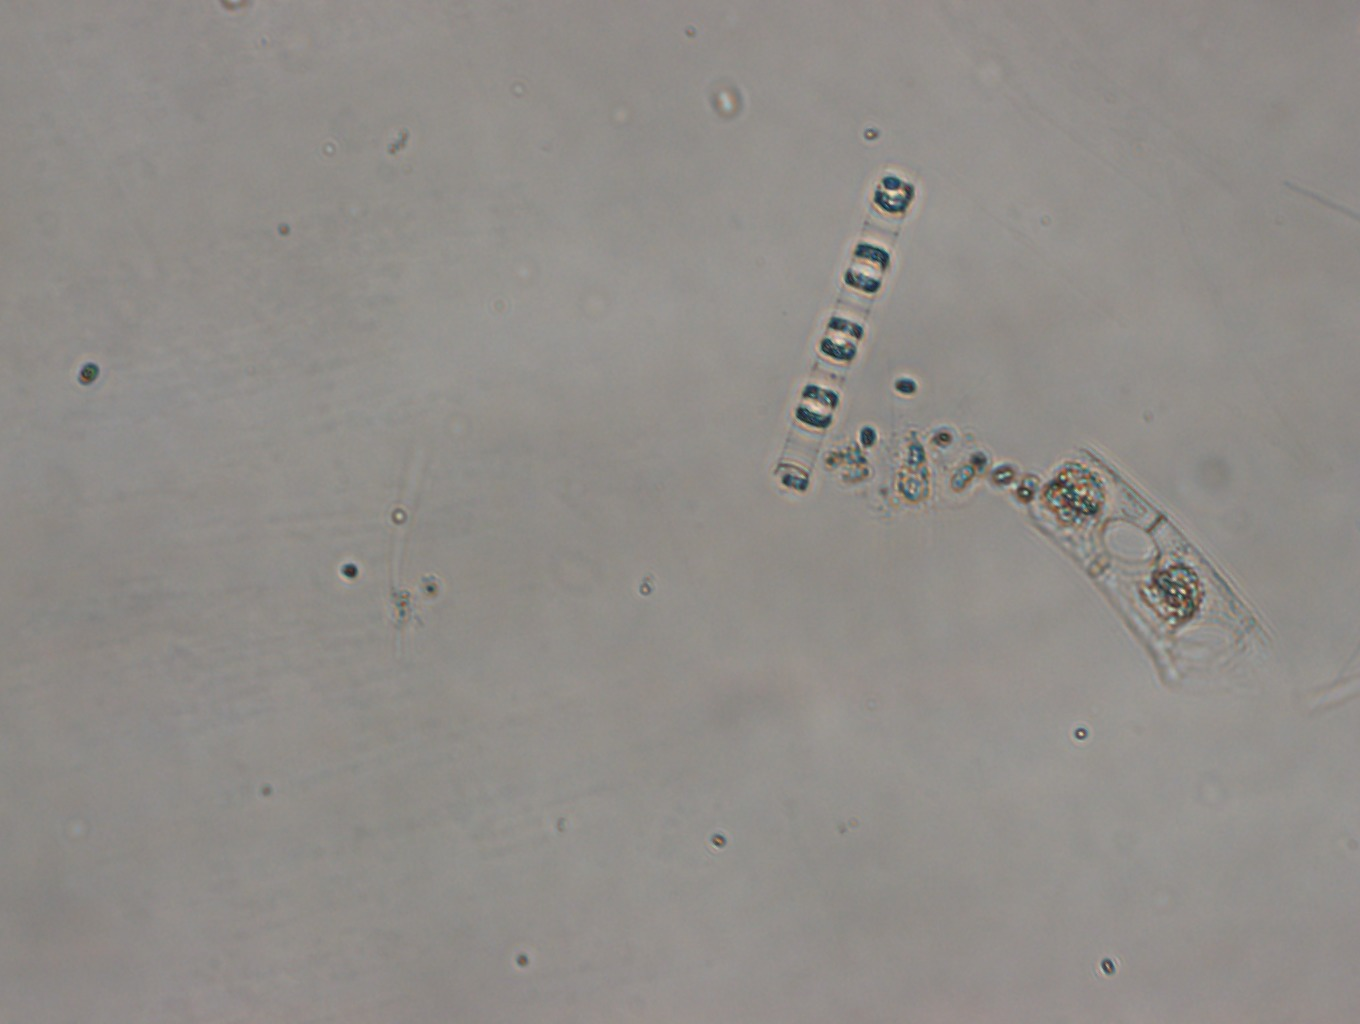eucampia: (1030, 452, 1275, 696)
skeletonema: (765, 170, 922, 490)
